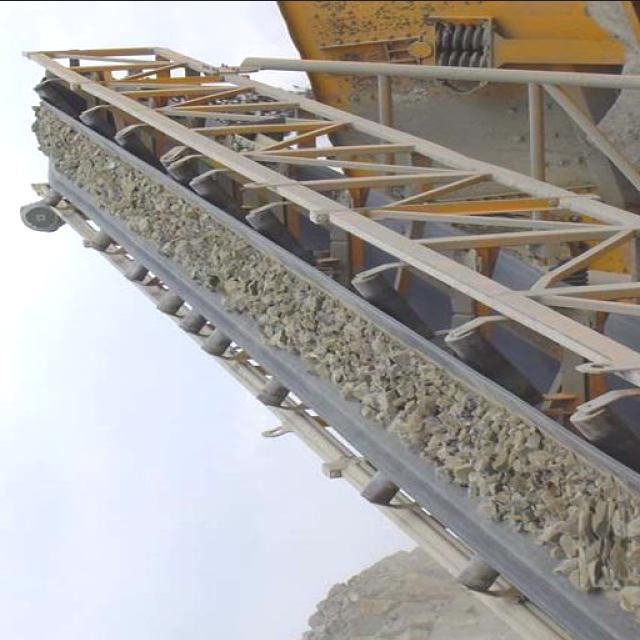conveyor: (30, 88, 640, 640)
